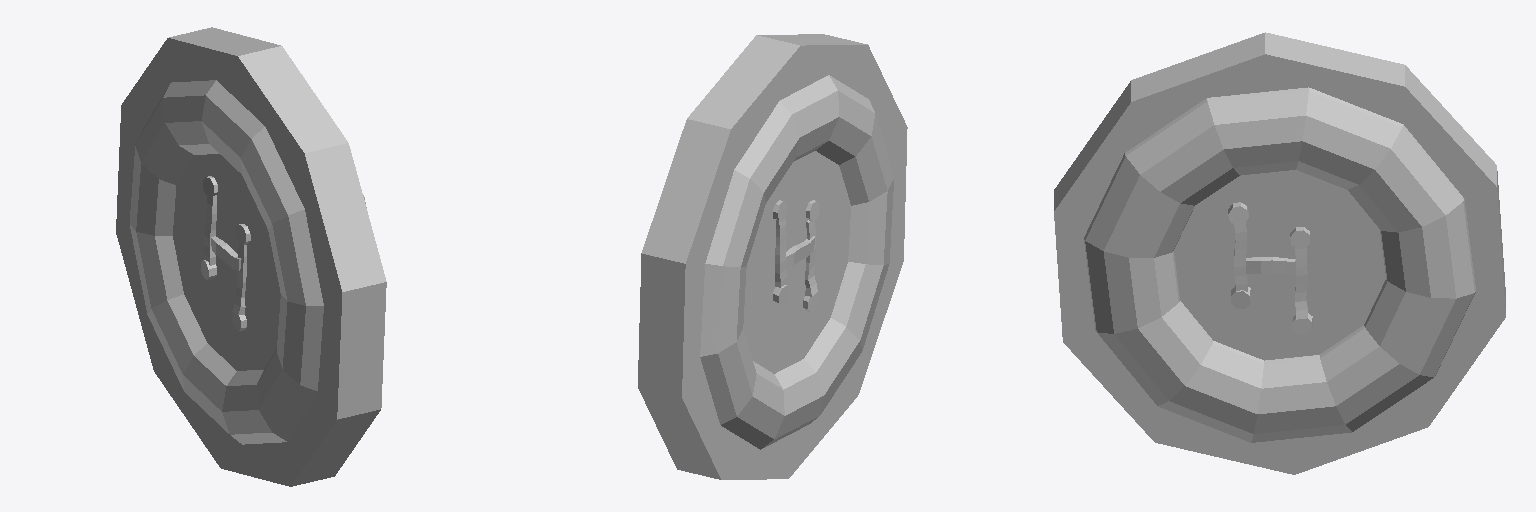
File: coin.obj
3 renders of one model, left to right at view 1: azimuth 30°, elevation 25°; view 2: azimuth 150°, elevation 25°; view 3: azimuth 270°, elevation 25°, orthographic.
Parts seen in each view (by area): view 1: group[number redacted], group[number redacted], group[number redacted], group[number redacted], group[number redacted]; view 2: group[number redacted], group[number redacted], group[number redacted], group[number redacted]; view 3: group[number redacted], group[number redacted], group[number redacted], group[number redacted], group[number redacted].
Boxes of the visible parts, <box> form: group[number redacted]: <box>116,27,386,486</box>; group[number redacted]: <box>130,80,366,444</box>; group[number redacted]: <box>204,195,216,265</box>; group[number redacted]: <box>232,243,246,314</box>; group[number redacted]: <box>211,236,241,270</box>; group[number redacted]: <box>638,34,907,479</box>; group[number redacted]: <box>700,75,893,449</box>; group[number redacted]: <box>775,219,786,287</box>; group[number redacted]: <box>805,220,817,296</box>; group[number redacted]: <box>1084,87,1475,442</box>; group[number redacted]: <box>1054,32,1505,474</box>; group[number redacted]: <box>1295,247,1307,319</box>; group[number redacted]: <box>1246,257,1295,274</box>; group[number redacted]: <box>1234,222,1247,291</box>.
Bounding box in the file's own units: 0.049 × 0.2197 × 0.2131.